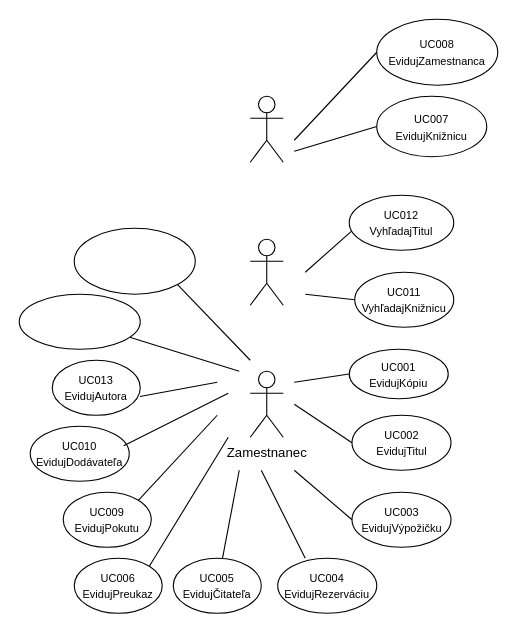
Some shapes in this 517 by 633 pixel diagram are drawn without their labels. The centre of each missing label's shape, as x and y in pixels:
Systémový administrátor: (x=266, y=128)
UC014 PrihlásZamestnanca: (x=79, y=321)
UC015 OdhlásZamestnanca: (x=134, y=260)
Čitateľ: (x=266, y=271)
